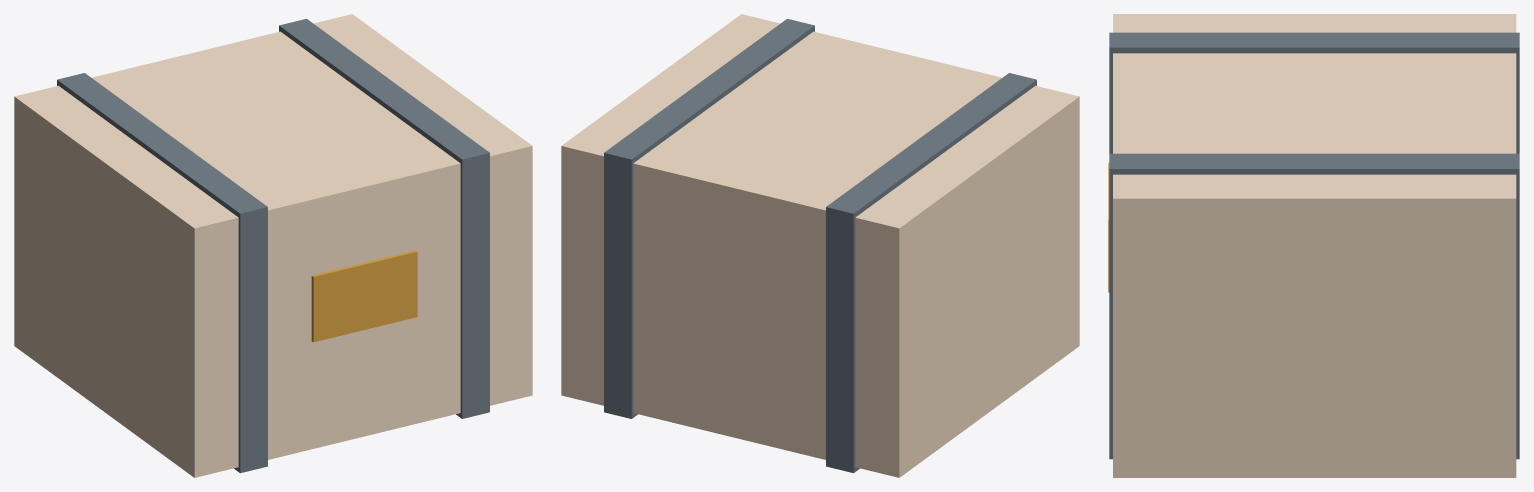
The model's file is dragon_capsule.cutaway.cargo_rack_02.cargo_pack_10.glb.
The picture shows the model from 3 angles, left to right: view 1: azimuth 30°, elevation 25°; view 2: azimuth 150°, elevation 25°; view 3: azimuth 270°, elevation 25°; orthographic projection. The views are drawn at different scales.
Parts seen in each view (by area): view 1: dragon_capsule.cutaway.cargo_rack_02.cargo_pack_10.mesh_Para, dragon_capsule.cutaway.cargo_rack_02.cargo_pack_10.mesh_Mach, dragon_capsule.cutaway.cargo_rack_02.cargo_pack_10.mesh_Gold; view 2: dragon_capsule.cutaway.cargo_rack_02.cargo_pack_10.mesh_Para, dragon_capsule.cutaway.cargo_rack_02.cargo_pack_10.mesh_Mach; view 3: dragon_capsule.cutaway.cargo_rack_02.cargo_pack_10.mesh_Para, dragon_capsule.cutaway.cargo_rack_02.cargo_pack_10.mesh_Mach.
Boxes of the visible parts, x1,y1,x2,y2 form: dragon_capsule.cutaway.cargo_rack_02.cargo_pack_10.mesh_Para: [14, 14, 532, 477]; dragon_capsule.cutaway.cargo_rack_02.cargo_pack_10.mesh_Mach: [57, 18, 489, 473]; dragon_capsule.cutaway.cargo_rack_02.cargo_pack_10.mesh_Gold: [311, 250, 417, 342]; dragon_capsule.cutaway.cargo_rack_02.cargo_pack_10.mesh_Para: [561, 14, 1079, 477]; dragon_capsule.cutaway.cargo_rack_02.cargo_pack_10.mesh_Mach: [604, 18, 1036, 473]; dragon_capsule.cutaway.cargo_rack_02.cargo_pack_10.mesh_Para: [1113, 14, 1516, 477]; dragon_capsule.cutaway.cargo_rack_02.cargo_pack_10.mesh_Mach: [1109, 32, 1519, 459].
Bounding box in the file's own units: 0.39 × 0.286 × 0.367.
